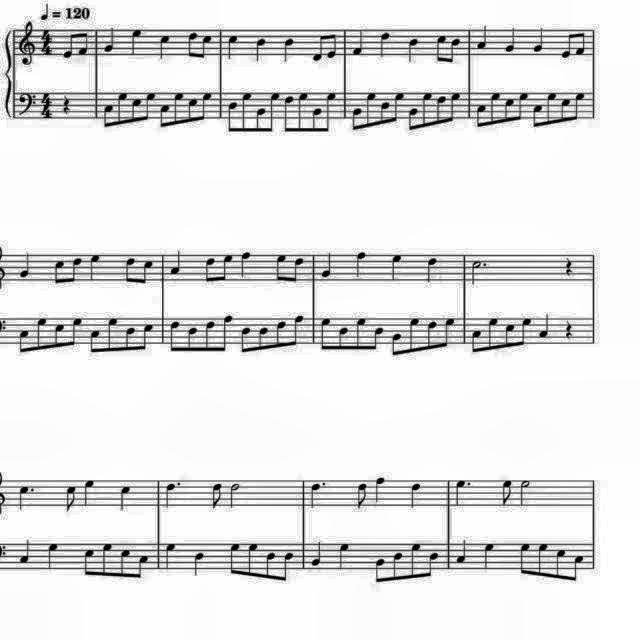Bass-clef: (15, 90, 37, 118)
Eighth-note: (314, 90, 338, 134), (218, 312, 236, 356), (238, 90, 256, 134), (268, 88, 284, 136), (296, 88, 312, 132), (310, 28, 328, 64), (104, 314, 120, 354), (534, 540, 550, 580), (408, 540, 424, 580), (100, 540, 116, 580), (362, 90, 378, 130), (420, 90, 436, 130), (202, 318, 218, 356), (390, 90, 406, 128), (352, 314, 368, 351), (34, 316, 50, 352), (424, 318, 440, 354), (552, 546, 568, 582), (167, 318, 183, 354), (442, 314, 458, 350), (515, 542, 531, 578), (290, 314, 306, 350), (432, 32, 448, 68), (448, 90, 464, 126), (487, 91, 503, 127), (62, 482, 80, 514), (497, 476, 515, 508), (183, 28, 200, 61), (246, 540, 260, 580), (408, 316, 422, 356), (281, 92, 295, 132), (390, 548, 406, 582), (116, 546, 132, 580), (570, 90, 586, 124), (207, 481, 225, 511), (353, 480, 371, 510), (543, 89, 557, 127), (558, 28, 574, 61), (572, 26, 588, 59), (140, 320, 156, 352), (238, 324, 254, 356), (122, 254, 138, 286), (202, 254, 218, 286), (518, 314, 534, 346), (272, 252, 288, 284), (280, 550, 296, 582), (569, 552, 585, 584), (448, 34, 464, 66), (486, 316, 500, 352), (115, 92, 129, 128), (172, 92, 186, 128), (320, 318, 334, 354), (226, 542, 240, 578), (76, 27, 92, 57), (52, 321, 68, 351), (140, 258, 156, 288), (290, 256, 306, 286), (274, 318, 288, 352), (200, 91, 214, 125), (371, 323, 387, 352), (88, 328, 104, 357), (310, 105, 326, 134), (15, 325, 30, 355), (70, 314, 84, 346), (388, 330, 404, 358), (62, 29, 76, 61), (530, 102, 546, 130), (52, 258, 68, 286), (336, 326, 352, 354), (185, 94, 199, 126), (468, 328, 484, 356), (81, 548, 95, 580), (68, 256, 84, 284), (226, 100, 240, 132), (136, 553, 152, 581), (325, 28, 339, 60), (436, 91, 448, 127), (265, 550, 279, 580), (426, 551, 440, 581), (185, 326, 199, 356), (558, 95, 572, 125), (372, 555, 386, 585), (220, 253, 234, 283), (201, 31, 215, 61), (124, 323, 138, 352), (254, 105, 268, 134), (130, 98, 144, 126), (256, 325, 270, 353), (502, 322, 516, 350), (159, 102, 173, 130), (350, 104, 364, 132), (102, 102, 116, 130), (473, 102, 487, 130), (144, 91, 156, 123), (516, 89, 528, 121), (380, 99, 392, 128), (502, 96, 514, 124), (408, 105, 420, 133)
Half-dot: (470, 257, 492, 289)
Half-note: (228, 480, 244, 510), (518, 477, 534, 507)
Quarter-dot: (304, 480, 328, 510), (15, 483, 38, 513), (450, 478, 472, 509), (163, 481, 185, 511)
Quarter-note: (422, 254, 442, 286), (386, 253, 406, 283), (116, 483, 136, 513), (317, 250, 335, 282), (237, 248, 255, 280), (376, 29, 394, 60), (80, 475, 96, 509), (351, 251, 369, 281), (336, 542, 354, 572), (407, 480, 425, 510), (44, 540, 60, 572), (88, 252, 104, 284), (15, 251, 32, 281), (349, 28, 366, 58), (168, 250, 186, 278), (189, 550, 207, 578), (225, 31, 242, 60), (476, 22, 492, 52), (530, 25, 546, 55), (504, 25, 520, 55), (102, 25, 118, 55), (309, 539, 325, 569), (128, 27, 144, 57), (536, 310, 552, 340), (164, 539, 180, 569), (373, 475, 389, 505), (158, 32, 175, 60), (15, 538, 32, 566), (280, 36, 296, 64), (406, 34, 422, 62), (454, 536, 470, 564), (252, 34, 268, 62), (482, 542, 498, 570)
Quarter-rest: (561, 252, 577, 278), (561, 315, 577, 341), (60, 92, 74, 116)
Treble-clef: (17, 20, 38, 68)
